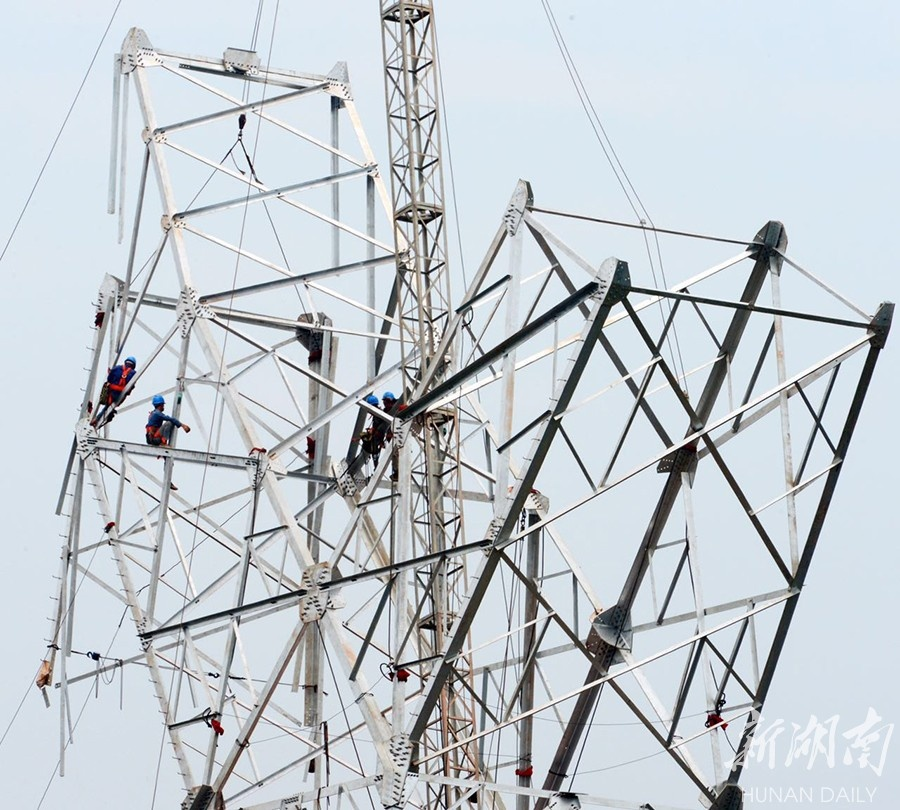blue: (151, 393, 166, 412), (365, 394, 380, 411), (122, 354, 137, 369), (381, 391, 395, 406)
